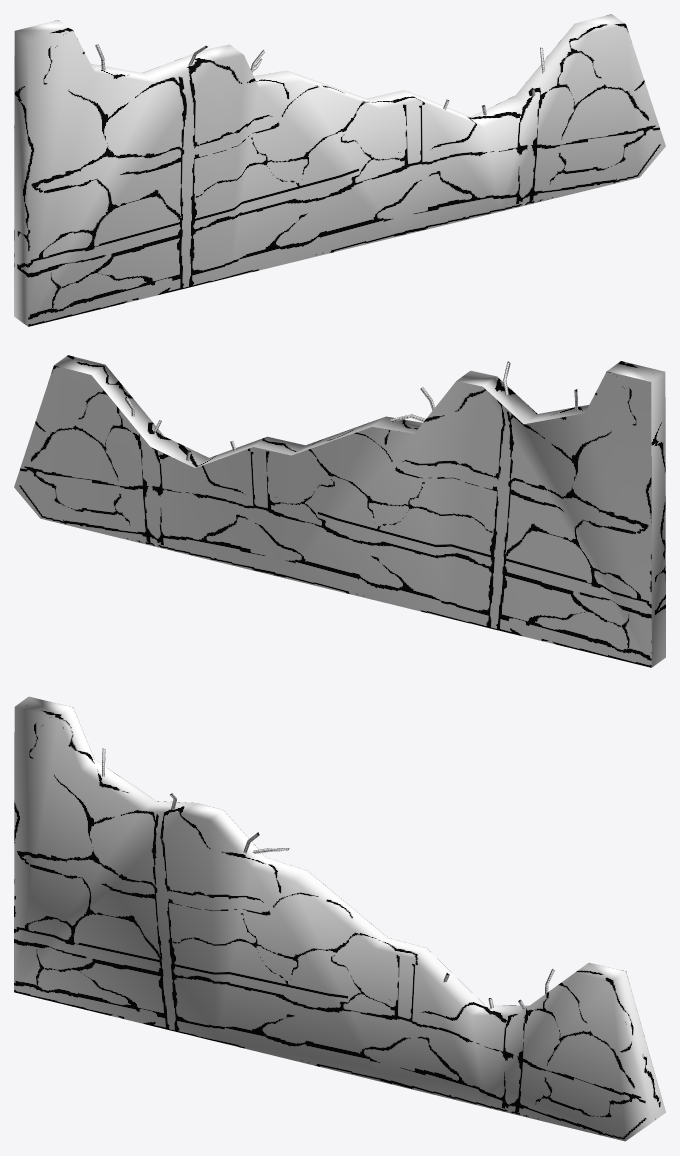
File: Building_02_08.fbx
The picture shows the model from 3 angles, top to bottom: view 1: azimuth 30°, elevation 25°; view 2: azimuth 150°, elevation 25°; view 3: azimuth 330°, elevation 25°; orthographic projection.
Parts seen in each view (by area): view 1: Building_02_08; view 2: Building_02_08; view 3: Building_02_08.
Boxes of the visible parts, left/top/right/bottom form: Building_02_08: left=14, top=14, right=665, bottom=326; Building_02_08: left=14, top=355, right=665, bottom=667; Building_02_08: left=14, top=696, right=665, bottom=1141.
Size of the model in its own units: 27.3 by 11.68 by 2.41.
